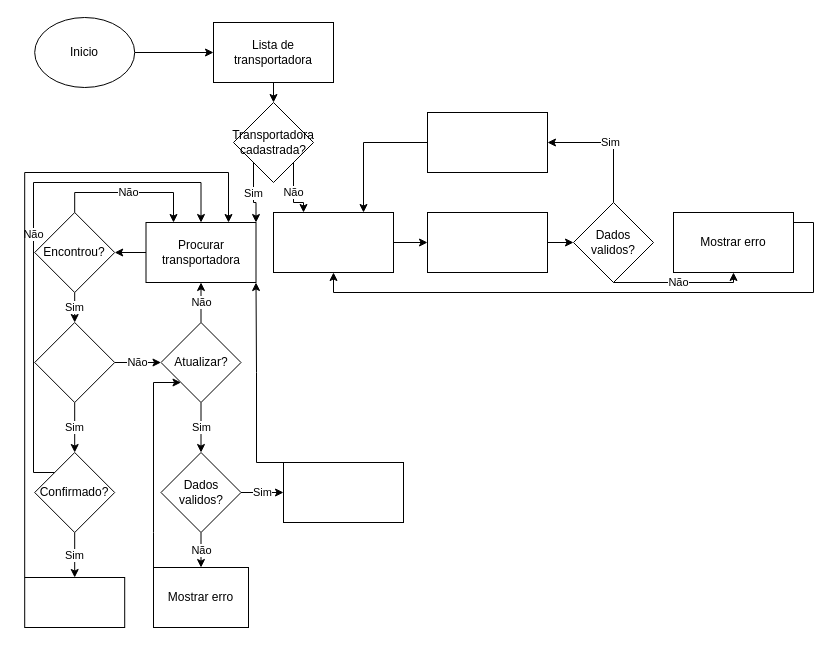
The diagram is 839 pixels wide and 645 high, and some of its shapes have lost their labels. Each missing label, with the centre of its shape:
"Apagado com sucesso" belongs at point 74,602.
"Apagar?" belongs at point 74,362.
"Atualizado com sucesso" belongs at point 343,492.
"Cadastrar transportadora" belongs at point 333,242.
"Cadastro bem sucedido" belongs at point 487,142.
"Dados da transportadora: Nome e telefone" belongs at point 487,242.
